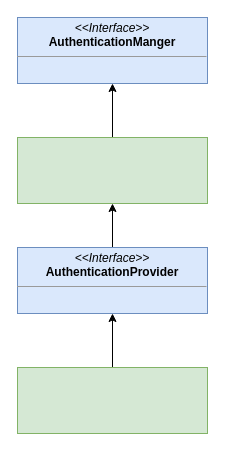
Image size: 225x451. Some labels were removed from this diagram. Each missing label, with the box of its shape:
<<Class>> DAOAuthenticationProvider: (16, 366, 208, 434)
<<Class>> ProviderManger: (16, 136, 208, 204)
